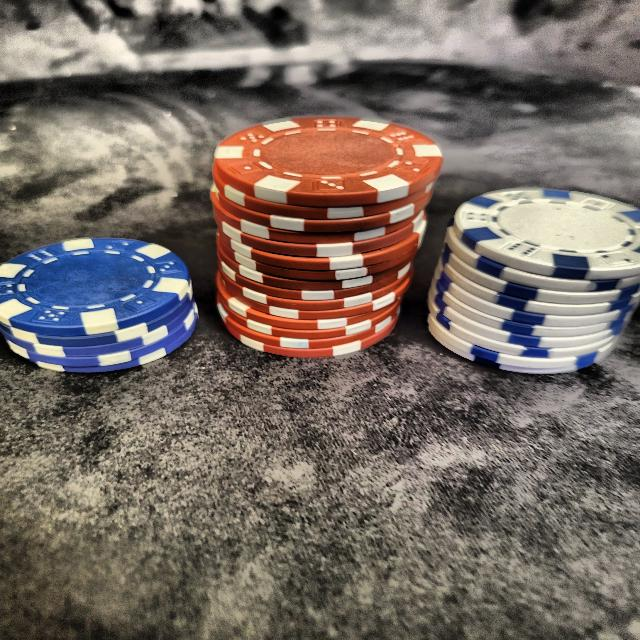Chip: (202, 101, 444, 367), (410, 165, 640, 398), (0, 217, 198, 388)
